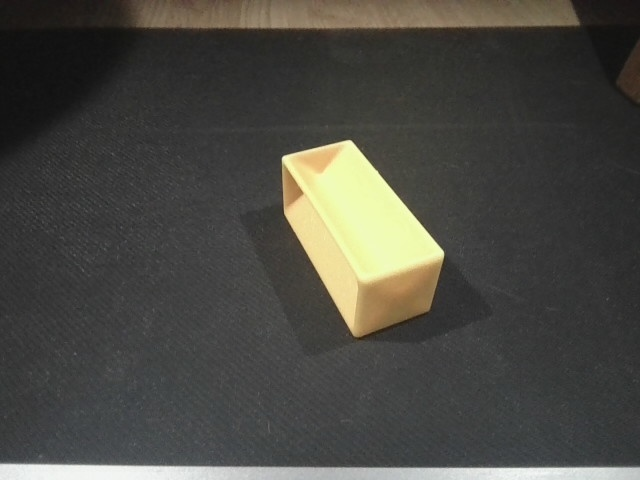YellowSample: (279, 136, 453, 347)
